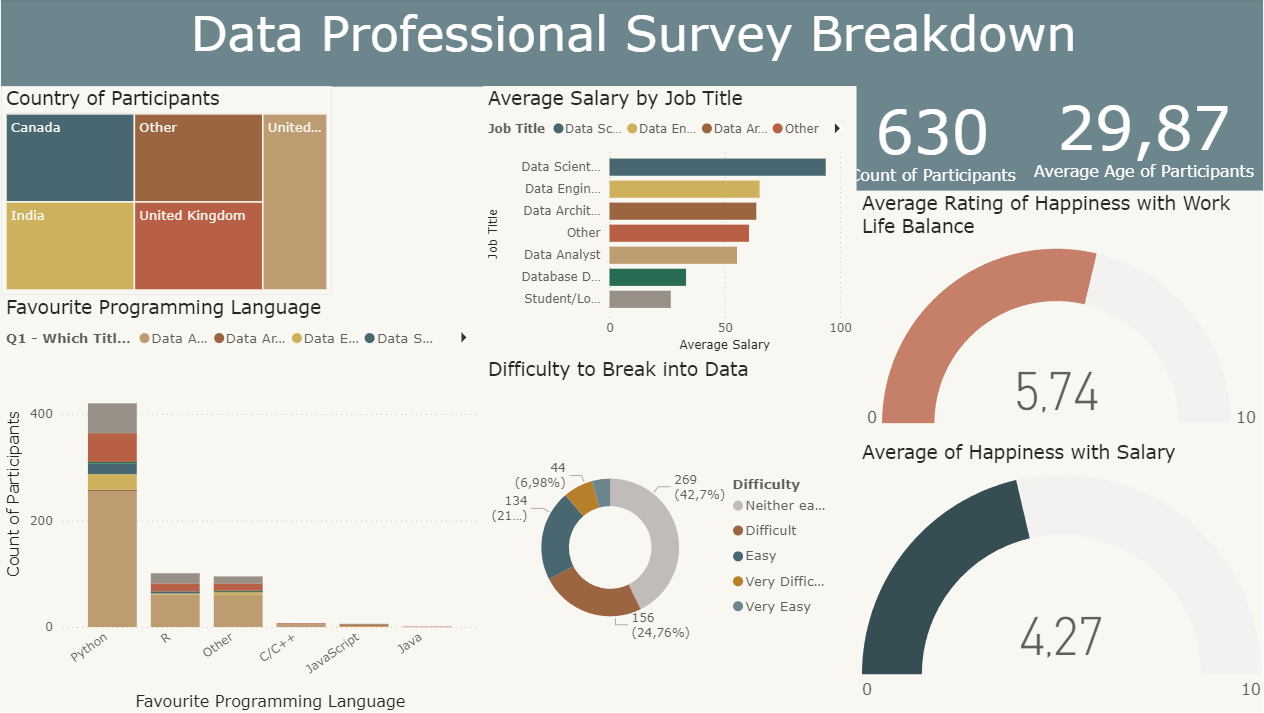

The page's visual inventory and layout, read from the dashboard file:
{"tool":"powerbi","page":{"name":"Page 1","canvas":[1280,720],"ordinal":0},"visuals":[{"type":"textbox","box":[9.7,0,1270.3,88.5],"z":0},{"type":"card","fields":{"Values":["CountNonNull(Data Professional Survey.Unique ID)"]},"box":[855.3,87.3,179.7,106.4],"z":1000},{"type":"card","fields":{"Values":["Avg(Data Professional Survey.Q10 - Current Age)"]},"box":[1035,79.3,245,114.4],"z":2000},{"type":"barChart","title":"Average Salary by Job Title","fields":{"Category":["Data Professional Survey.Q1 - Which Title Best Fits your Current Role?.1"],"Y":["Avg(Data Professional Survey.Average Salary)"],"Series":["Data Professional Survey.Q1 - Which Title Best Fits your Current Role?.1"]},"box":[493.9,88.3,375.5,272.1],"z":3000},{"type":"columnChart","title":"Favourite Programming Language","fields":{"Category":["Data Professional Survey.Q5 - Favorite Programming Language.1"],"Y":["CountNonNull(Data Professional Survey.Unique ID)"],"Series":["Data Professional Survey.Q1 - Which Title Best Fits your Current Role?.1"]},"box":[10,298.2,483.9,421.6],"z":4000},{"type":"treemap","title":"Country of Participants","fields":{"Group":["Data Professional Survey.Q11 - Which Country do you live in?.1"],"Values":["Count(Data Professional Survey.Q11 - Which Country do you live in?.1)"]},"box":[10,88.3,332.3,209.8],"z":5000},{"type":"gauge","title":"Average Rating of  Happiness with Work Life Balance","fields":{"Y":["Avg(Data Professional Survey.Q6 - How Happy are you in your Current Position with the following? (Work/Life Balance))"],"MinValue":["Min(Data Professional Survey.Q6 - How Happy are you in your Current Position with the following? (Work/Life Balance))1"],"MaxValue":["Max(Data Professional Survey.Q6 - How Happy are you in your Current Position with the following? (Work/Life Balance))2"]},"box":[869.4,193.8,410.6,250],"z":6000},{"type":"gauge","title":"Average of Happiness with Salary","fields":{"Y":["Avg(Data Professional Survey.Q6 - How Happy are you in your Current Position with the following? (Salary))"],"MinValue":["Min(Data Professional Survey.Q6 - How Happy are you in your Current Position with the following? (Salary))"],"MaxValue":["Max(Data Professional Survey.Q6 - How Happy are you in your Current Position with the following? (Salary))1"]},"box":[869.4,443.7,410.6,276.1],"z":7000},{"type":"donutChart","title":"Difficulty to Break into Data","fields":{"Category":["Data Professional Survey.Q7 - How difficult was it for you to break into Data?"],"Y":["CountNonNull(Data Professional Survey.Q7 - How difficult was it for you to break into Data?)"]},"box":[493.9,360.4,361.4,359.4],"z":7001}]}

Visuals, with their boxes in screenshot pixels (x1, y1, x2, y2), scaled from the page's 1280x720 canvas onto the 1264x713 screenshot:
textbox: 10 0 1263 88
card - CountNonNull(Data Professional Survey.Unique ID): 845 86 1022 192
card - Avg(Data Professional Survey.Q10 - Current Age): 1022 79 1263 192
"Average Salary by Job Title" barChart: 488 87 859 357
"Favourite Programming Language" columnChart: 10 295 488 712
"Country of Participants" treemap: 10 87 338 295
"Average Rating of  Happiness with Work Life Balance" gauge: 859 192 1263 439
"Average of Happiness with Salary" gauge: 859 439 1263 712
"Difficulty to Break into Data" donutChart: 488 357 845 712
